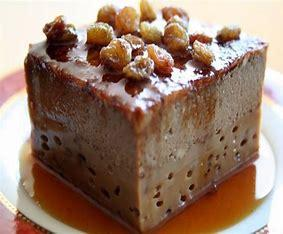Watalappam: (23, 10, 273, 207)
